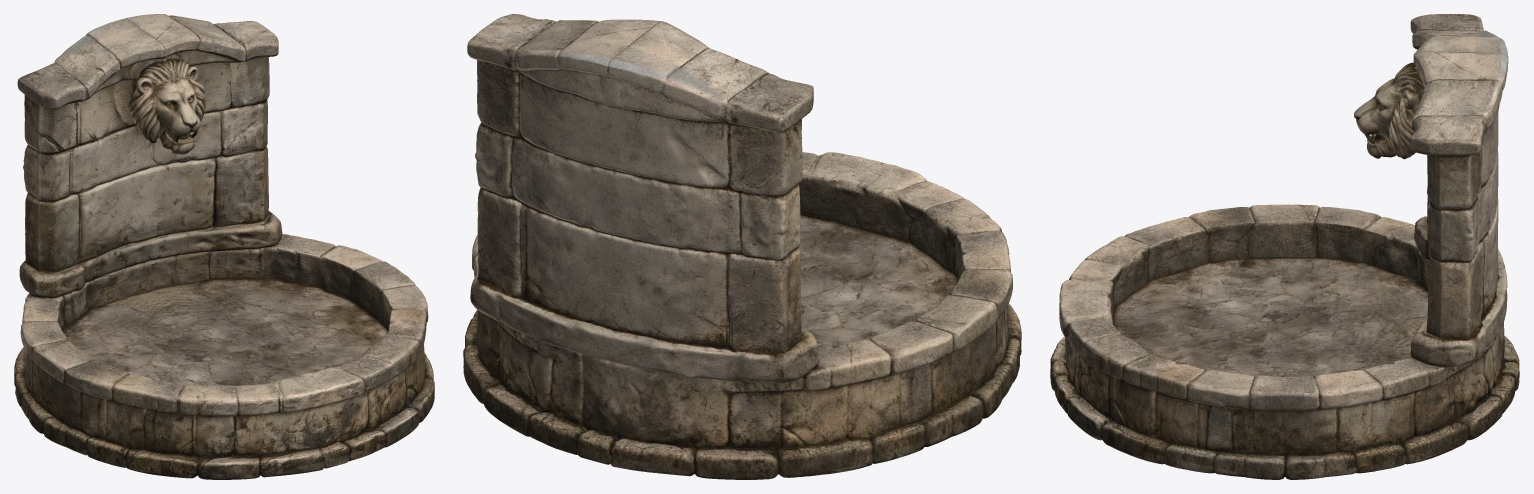
Rendered from fonte.compressed.glb.
3 renders of one model, left to right at view 1: azimuth 30°, elevation 25°; view 2: azimuth 150°, elevation 25°; view 3: azimuth 270°, elevation 25°, orthographic. The views are drawn at different scales.
Bounding box in the file's own units: 1.88 × 1.48 × 1.9.
1 material, 1 textured.
